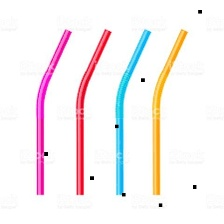drinking_straw: (70, 27, 122, 198), (146, 25, 192, 198), (30, 25, 74, 198), (111, 25, 154, 198)
